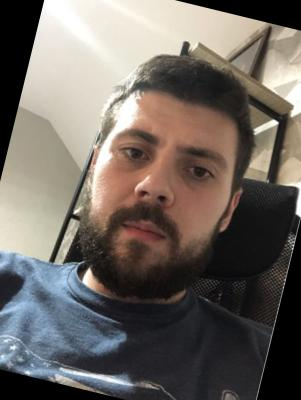without_mask: (67, 117, 246, 301)
